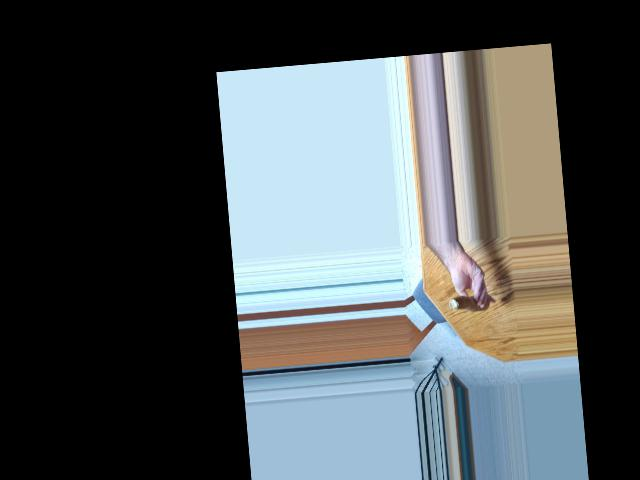sweet_potato: (455, 292, 488, 313)
